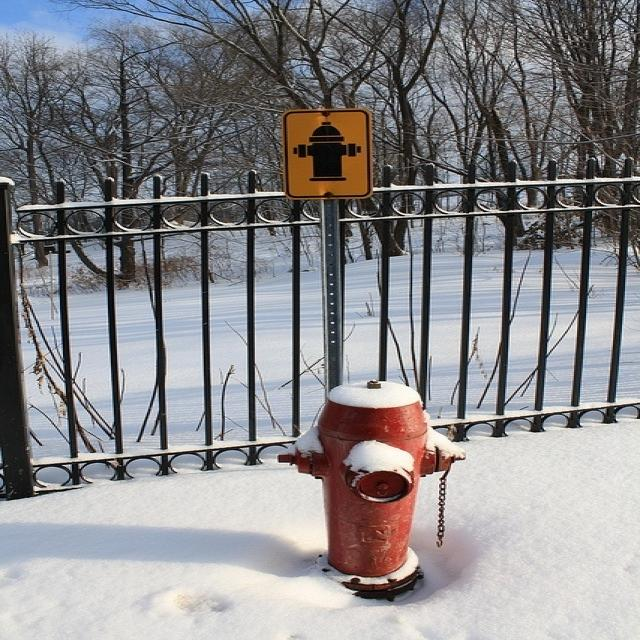fire_hydrant: (266, 332, 508, 608)
